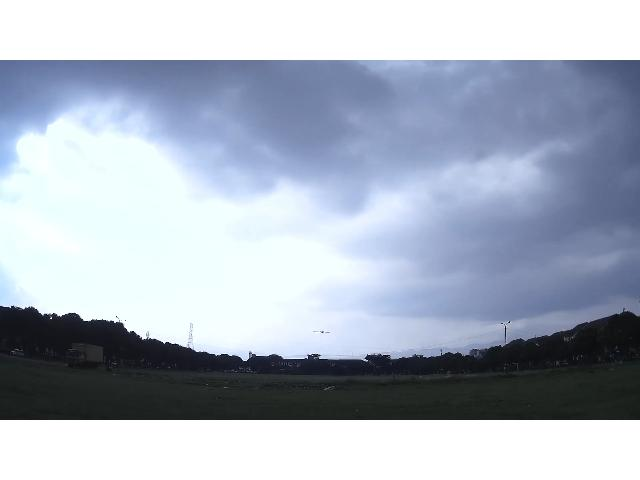Anti-Drone: (313, 331, 329, 333)
